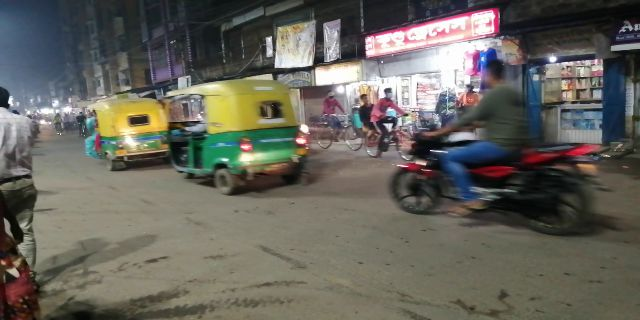Autorickshaw: (166, 82, 306, 189), (87, 97, 157, 165)
Cycle: (363, 90, 413, 171), (311, 85, 361, 155)
Motorbike: (389, 56, 606, 229)
